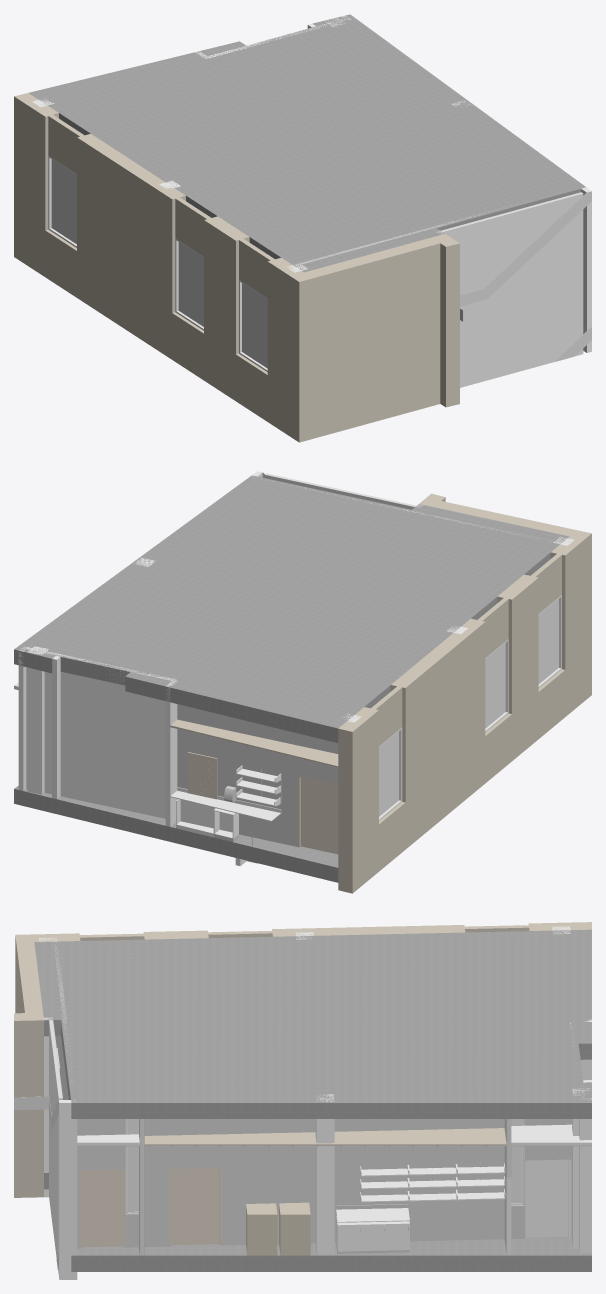
The model's file is LSU1.glb.
The picture shows the model from 3 angles, top to bottom: view 1: azimuth 30°, elevation 25°; view 2: azimuth 150°, elevation 25°; view 3: azimuth 270°, elevation 25°; orthographic projection. The views are drawn at different scales.
Parts seen in each view (by area): view 1: 00-Design_Generic - 18", 00-Design_Established_1'-6" field, 00-Design_Established_1'-6" field_2, 22.0_Mstd_W4-1/4"_S3-5/8"_G0-1_(NR)_5, 00-Design_Established_1'-6" field_3, Stair, 5'4" W x 7'6"' H - Fixed Frame - 0 mullion SHALLOW_2, 5'4" W x 7'6"' H - Fixed Frame - 0 mullion SHALLOW_4, 5'4" W x 7'6"' H - Fixed Frame - 0 mullion SHALLOW_6, 5'-4" W x 6'6" H - Fixed Frame - 0 mullion, 5'-4" W x 6'6" H - Fixed Frame - 0 mullion_2, 5'-4" W x 6'6" H - Fixed Frame - 0 mullion_3 (+1 smaller); view 2: 00-Design_Generic - 18", 00-Design_Established_1'-6" field, 00-Design_Exterior_6" SHAFT_3, 10.0_Mstd_W4-7/8"_S3-5/8"_G1-1_(NR)_8, 00-Design_Generic - 18"_2, HM 4'-0" x 7'-0" HM 2" Head_2, 00-Design_Established_1'-6" field_2, 18 x 18_3, CEILING 3 - 2X2 ACP, 00-Design_Exterior_6" SHAFT_2, 5'4" W x 7'6"' H - Fixed Frame - 0 mullion SHALLOW_6, 5'4" W x 7'6"' H - Fixed Frame - 0 mullion SHALLOW_4 (+13 smaller); view 3: 00-Design_Generic - 18", 10.0_Mstd_W4-7/8"_S3-5/8"_G1-1_(NR)_10, 00-Design_Generic - 18"_2, 00-Design_Established_1'-6" field_3, CEILING 3 - 2X2 ACP_4, HM 4'-0" x 7'-0" HM 2" Head_3, HM 3'-6" x 7'-0" HM 2" Head_2, HM 3'-6" x 7'-0" HM 2" Head, 18 x 18_4, 00-Design_Established_1'-6" field, 18 x 18_8, 22.0_Mstd_W4-1/4"_S3-5/8"_G0-1_(NR)_5 (+21 smaller).
Part boxes in pixels (box(x1,y1,x2,y2)): 00-Design_Generic - 18": box(29, 14, 585, 272); 00-Design_Established_1'-6" field: box(14, 93, 303, 436); 00-Design_Established_1'-6" field_2: box(290, 237, 440, 442); 22.0_Mstd_W4-1/4"_S3-5/8"_G0-1_(NR)_5: box(441, 192, 583, 387); 00-Design_Established_1'-6" field_3: box(432, 234, 459, 407); Stair: box(460, 191, 591, 321); 5'4" W x 7'6"' H - Fixed Frame - 0 mullion SHALLOW_2: box(51, 159, 76, 244); 5'4" W x 7'6"' H - Fixed Frame - 0 mullion SHALLOW_4: box(242, 283, 267, 368); 5'4" W x 7'6"' H - Fixed Frame - 0 mullion SHALLOW_6: box(178, 242, 203, 326); 5'-4" W x 6'6" H - Fixed Frame - 0 mullion: box(48, 115, 84, 173); 5'-4" W x 6'6" H - Fixed Frame - 0 mullion_2: box(175, 197, 210, 256); 5'-4" W x 6'6" H - Fixed Frame - 0 mullion_3: box(239, 238, 274, 297); 00-Design_Generic - 18": box(14, 475, 569, 742); 00-Design_Established_1'-6" field: box(338, 536, 584, 893); 00-Design_Exterior_6" SHAFT_3: box(26, 647, 174, 818); 10.0_Mstd_W4-7/8"_S3-5/8"_G1-1_(NR)_8: box(177, 704, 338, 846); 00-Design_Generic - 18"_2: box(14, 785, 338, 882); HM 4'-0" x 7'-0" HM 2" Head_2: box(297, 775, 338, 854); 00-Design_Established_1'-6" field_2: box(434, 501, 591, 700); 18 x 18_3: box(27, 646, 48, 794); CEILING 3 - 2X2 ACP: box(170, 719, 338, 767); 00-Design_Exterior_6" SHAFT_2: box(165, 679, 177, 826); 5'4" W x 7'6"' H - Fixed Frame - 0 mullion SHALLOW_6: box(485, 643, 505, 728); 5'4" W x 7'6"' H - Fixed Frame - 0 mullion SHALLOW_4: box(538, 599, 558, 683); 00-Design_Generic - 18": box(34, 929, 591, 1118); 10.0_Mstd_W4-7/8"_S3-5/8"_G1-1_(NR)_10: box(77, 1119, 572, 1248); 00-Design_Generic - 18"_2: box(44, 1172, 591, 1271); 00-Design_Established_1'-6" field_3: box(14, 1012, 43, 1197); CEILING 3 - 2X2 ACP_4: box(144, 1128, 506, 1145); HM 4'-0" x 7'-0" HM 2" Head_3: box(169, 1167, 221, 1246); HM 3'-6" x 7'-0" HM 2" Head_2: box(79, 1169, 125, 1248); HM 3'-6" x 7'-0" HM 2" Head: box(525, 1159, 571, 1238); 18 x 18_4: box(59, 1099, 77, 1279); 00-Design_Established_1'-6" field: box(33, 922, 591, 941); 18 x 18_8: box(315, 1094, 334, 1254); 22.0_Mstd_W4-1/4"_S3-5/8"_G0-1_(NR)_5: box(49, 1020, 62, 1272).
Bounding box in the file's own units: 10.83 × 4.94 × 14.63.
18 materials, 4 textured.
